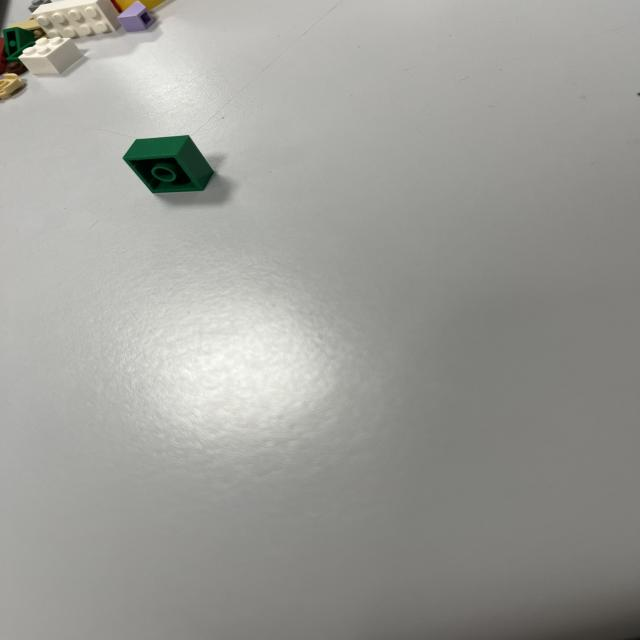C2x2x1: (120, 134, 218, 194)
